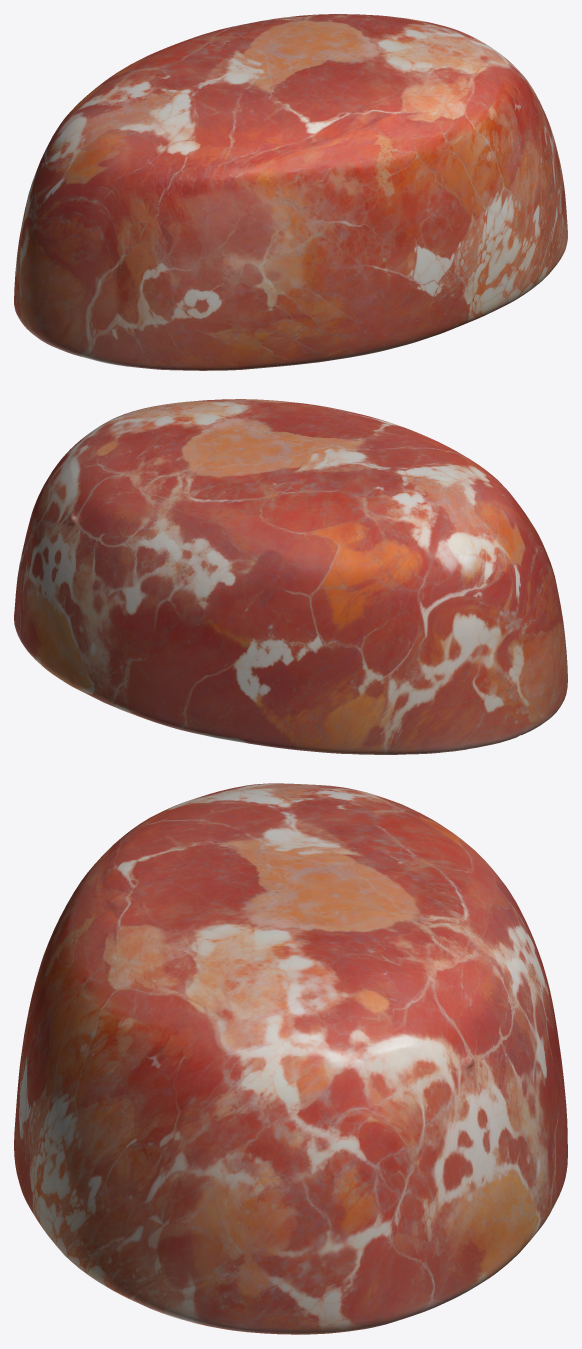
Rendered from coral mosaic.glb.
3 renders of one model, top to bottom at view 1: azimuth 30°, elevation 25°; view 2: azimuth 150°, elevation 25°; view 3: azimuth 270°, elevation 25°, orthographic. The views are drawn at different scales.
Visible parts, largest first — view 1: Mesh_0.001; view 2: Mesh_0.001; view 3: Mesh_0.001.
Part boxes in pixels (left/top/right/bottom): Mesh_0.001: left=14, top=14, right=567, bottom=370; Mesh_0.001: left=14, top=399, right=567, bottom=754; Mesh_0.001: left=14, top=783, right=567, bottom=1334.
Size of the model in its own units: 0.031 by 0.0127 by 0.0212.
1 material, 1 textured.
